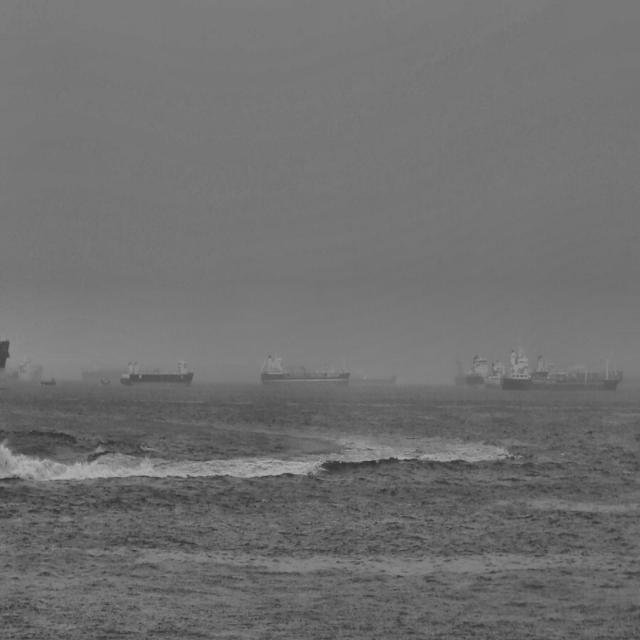ship: (499, 339, 621, 393), (259, 352, 352, 391), (118, 358, 196, 389), (483, 353, 507, 389), (464, 350, 486, 388), (40, 376, 58, 388)
